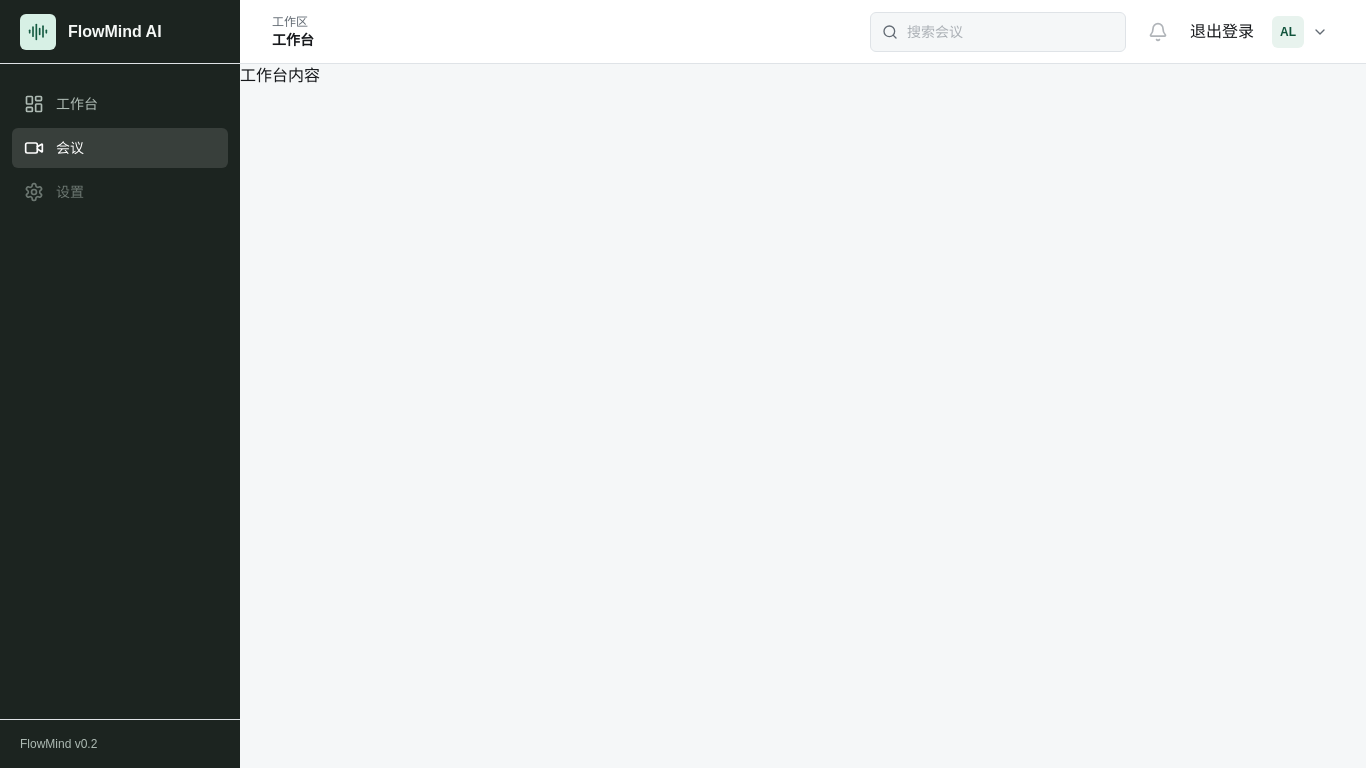
AppShell › shows the authenticated identity in the user menu
Click the button with aria-label "打开用户菜单" at (1300, 32), box [1266,12,1334,52]
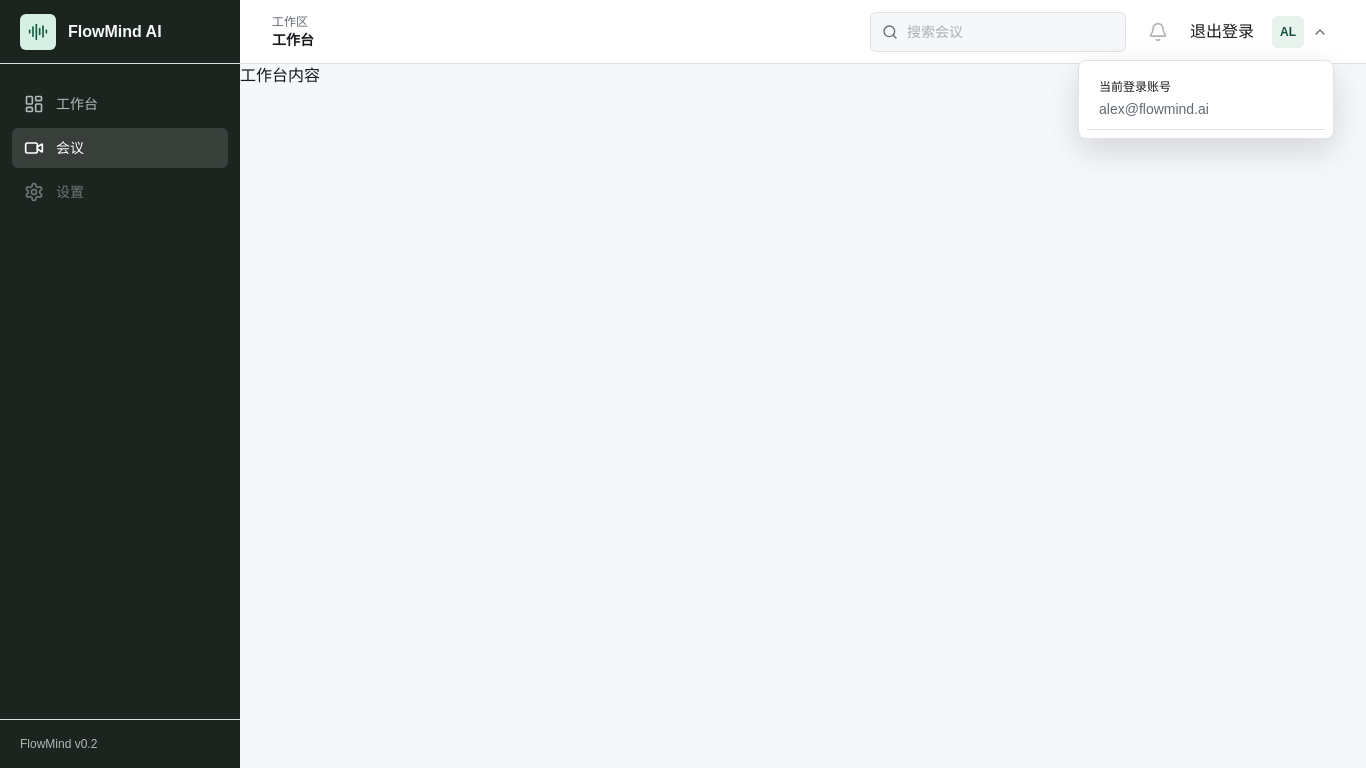
Expected: the text "alex@flowmind.ai" is shown, [1099,100,1209,116]
Expected: the menu named "打开用户菜单" is shown, [1078,60,1334,138]
